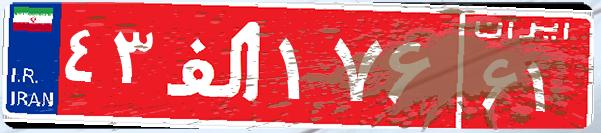1: (273, 28, 330, 110), (525, 38, 570, 115)
3: (110, 28, 158, 105)
4: (57, 26, 110, 107)
6: (385, 28, 445, 110), (475, 38, 525, 113)
7: (330, 28, 385, 110)
الف: (158, 15, 273, 115)
